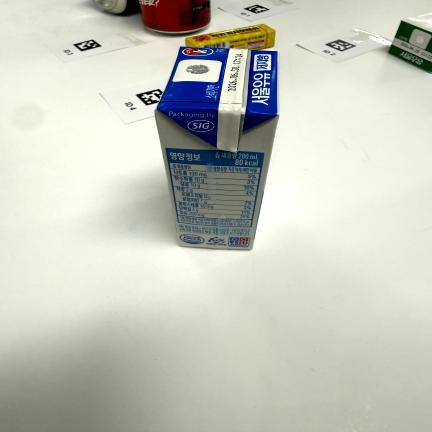milk_blue: (155, 46, 279, 251)
